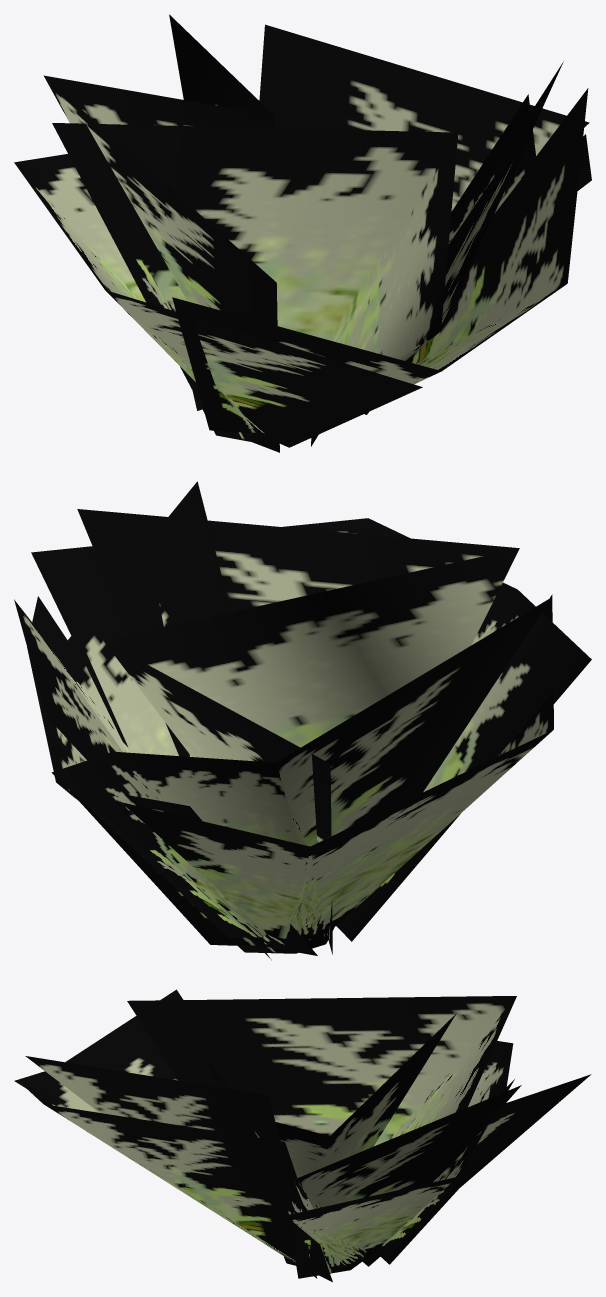
Rendered from Poa.fbx.
The picture shows the model from 3 angles, top to bottom: view 1: azimuth 30°, elevation 25°; view 2: azimuth 150°, elevation 25°; view 3: azimuth 270°, elevation 25°; orthographic projection. The views are drawn at different scales.
Visible parts, largest first — view 1: Poa; view 2: Poa; view 3: Poa.
Boxes of the visible parts, <box> form: Poa: <box>14,14,591,452</box>; Poa: <box>14,481,591,960</box>; Poa: <box>14,989,591,1282</box>.
Bounding box in the file's own units: 73.11 × 48.29 × 93.19.
